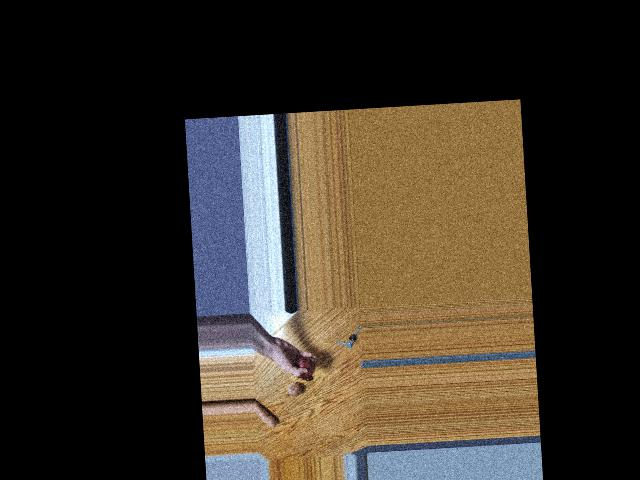onion: (283, 376, 302, 398)
